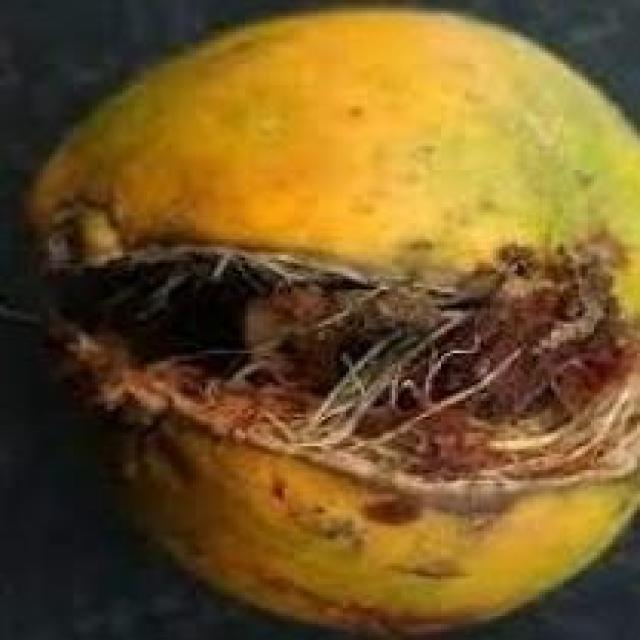damaged: (24, 5, 637, 637)
